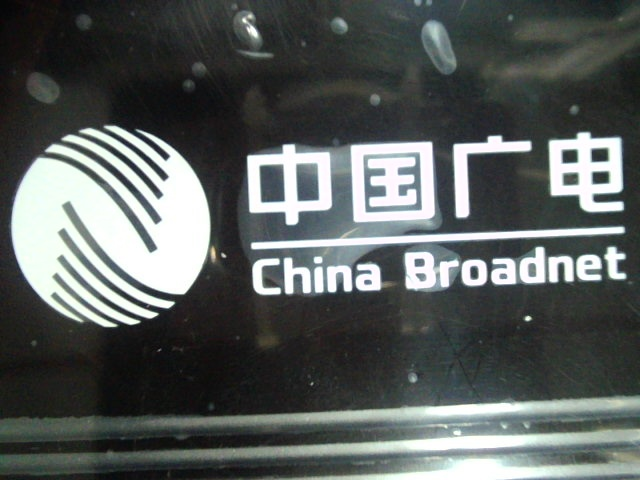AW_ChinaBroadNet: (8, 105, 634, 331)
